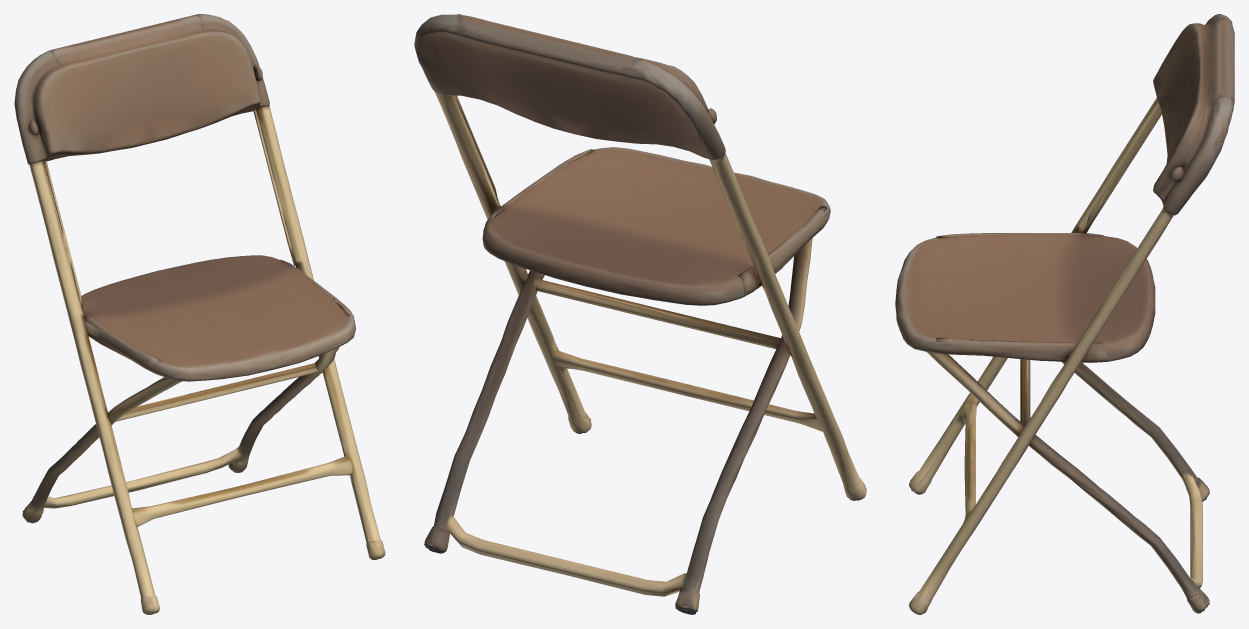
File: Chair_Folding_Chocol_0320032022_texture.glb
3 renders of one model, left to right at view 1: azimuth 30°, elevation 25°; view 2: azimuth 150°, elevation 25°; view 3: azimuth 270°, elevation 25°, orthographic. The views are drawn at different scales.
Parts seen in each view (by area): view 1: Mesh_0.004; view 2: Mesh_0.004; view 3: Mesh_0.004.
Part boxes in pixels (x1=…): Mesh_0.004: x1=14, y1=14, x2=385, y2=614; Mesh_0.004: x1=414, y1=14, x2=866, y2=614; Mesh_0.004: x1=895, y1=14, x2=1234, y2=614.
Size of the model in its own units: 0.5051 by 0.9144 by 0.5614.
1 material, 1 textured.
